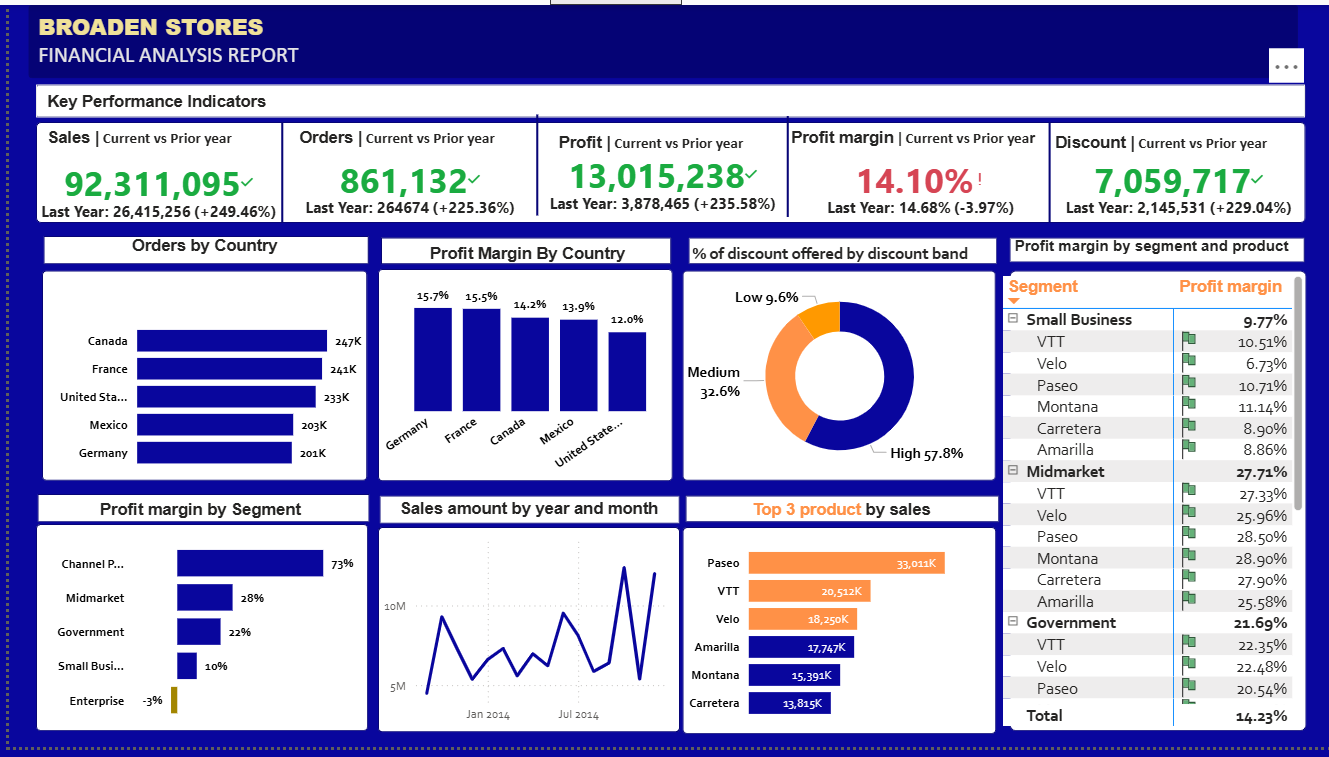

Layout of this report page (visuals, bound fields, positions):
{"tool":"powerbi","page":{"name":"Page 1","canvas":[1280,720],"ordinal":0},"visuals":[{"type":"shape","box":[971.5,257.5,288.2,446.9],"z":0},{"type":"shape","box":[19,0,1232,71],"z":1000},{"type":"shape","box":[26,77,1232,32],"z":2000},{"type":"shape","box":[26,113,1232,98],"z":3000},{"type":"shape","box":[32.4,257.5,315.7,204],"z":4000},{"type":"shape","box":[25.9,503.6,322.2,200.8],"z":5000},{"type":"shape","box":[654,258,304,204],"z":6000},{"type":"shape","box":[654.2,506.8,304.4,200.8],"z":7000},{"type":"shape","box":[357.8,506.8,293.1,199.2],"z":8000},{"type":"shape","box":[358,256,286,206],"z":9000},{"type":"shape","box":[655.8,476.1,304.4,25.9],"z":10000},{"type":"shape","box":[359.5,476.1,291.5,27.5],"z":11000},{"type":"shape","box":[659,225.1,299.6,25.9],"z":12000},{"type":"shape","box":[361.1,225.1,281.7,25.9],"z":13000},{"type":"shape","box":[27.5,474.4,322.2,27.5],"z":14000},{"type":"shape","box":[34,223.5,315.7,27.5],"z":15000},{"type":"shape","box":[971.5,225.1,286.6,24.3],"z":16000},{"type":"kpi","fields":{"Indicator":["Analysis.Sales Amount"],"TrendLine":["Date Table.Year"],"Goal":["Analysis.Sales Amount LY"]},"box":[20,146,250,72],"z":17000},{"type":"textbox","box":[24,0,404,72],"z":18000},{"type":"textbox","box":[32,78,226,36],"z":19000},{"type":"textbox","box":[32,114,226,32],"z":20000},{"type":"shape","box":[240,114,50,98],"z":21000},{"type":"kpi","fields":{"TrendLine":["Date Table.Year"],"Indicator":["Analysis.Orders"],"Goal":["Analysis.Orders LY"]},"box":[270,146,240,66],"z":22000},{"type":"kpi","fields":{"TrendLine":["Date Table.Year"],"Indicator":["Analysis.Profit"],"Goal":["Analysis.Profit LY"]},"box":[510,146,250,56],"z":23000},{"type":"kpi","fields":{"TrendLine":["Date Table.Year"],"Indicator":["Analysis.Profit margin"],"Goal":["Analysis.Profit margin LY"]},"box":[760,146,250,66],"z":24000},{"type":"kpi","fields":{"TrendLine":["Date Table.Year"],"Indicator":["Analysis.Discount offered"],"Goal":["Analysis.Discount offered LY"]},"box":[1010,146,250,66],"z":25000},{"type":"shape","box":[488,106,50,98],"z":26000},{"type":"shape","box":[730,108,50,98],"z":27000},{"type":"shape","box":[990,114,40,98],"z":28000},{"type":"textbox","box":[276,114,226,32],"z":29000},{"type":"textbox","box":[528,118,226,32],"z":30000},{"type":"textbox","box":[754,114,290,32],"z":31000},{"type":"textbox","box":[1010,118,240,32],"z":32000},{"type":"barChart","fields":{"Category":["Financials.Country"],"Y":["Analysis.Orders"]},"box":[32.4,291.5,315.7,170],"z":33000},{"type":"textbox","box":[32.4,218.6,315.7,32.4],"z":34000},{"type":"textbox","box":[362.7,225.1,281.7,30.8],"z":35000},{"type":"textbox","box":[657.4,225.1,302.8,32.4],"z":36000},{"type":"clusteredColumnChart","fields":{"Y":["Analysis.Profit margin"],"Category":["Financials.Country"]},"box":[357.8,255.8,285,205.6],"z":37000},{"type":"donutChart","fields":{"Category":["Financials.Discount Band"],"Y":["Analysis.Discount offered"]},"box":[654.2,257.5,304.4,204],"z":38000},{"type":"barChart","fields":{"Category":["Financials.Segment"],"Y":["Analysis.Profit margin"]},"box":[27.5,502,320.6,204],"z":39000},{"type":"textbox","box":[27.5,474.4,320.6,32.4],"z":40000},{"type":"textbox","box":[357.8,472.8,293.1,32.4],"z":41000},{"type":"textbox","box":[655.8,474.4,302.8,32.4],"z":42000},{"type":"lineChart","fields":{"Category":["Date Table.Date.Variation.Date Hierarchy.Year","Date Table.Date.Variation.Date Hierarchy.Month"],"Y":["Analysis.Sales Amount"]},"box":[357.8,506.8,293.1,197.5],"z":43000},{"type":"clusteredBarChart","fields":{"Category":["Financials.Product"],"Y":["Analysis.Sales Amount"]},"box":[654.2,506.8,304.4,197.5],"z":44000},{"type":"pivotTable","fields":{"Rows":["Financials.Segment","Financials.Product"],"Values":["Analysis.Profit margin"]},"box":[958.6,257.5,301.2,446.9],"z":45000},{"type":"textbox","box":[971.5,218.6,288.2,32.4],"z":45001}]}

Visuals, with their boxes in screenshot pixels (x1, y1, x2, y2), scaled from the page's 1280x720 canvas onto the 1329x757 screenshot:
shape: (left=1009, top=271, right=1308, bottom=741)
shape: (left=20, top=0, right=1299, bottom=75)
shape: (left=27, top=81, right=1306, bottom=115)
shape: (left=27, top=119, right=1306, bottom=222)
shape: (left=34, top=271, right=361, bottom=485)
shape: (left=27, top=529, right=361, bottom=741)
shape: (left=679, top=271, right=995, bottom=486)
shape: (left=679, top=533, right=995, bottom=744)
shape: (left=371, top=533, right=676, bottom=742)
shape: (left=372, top=269, right=669, bottom=486)
shape: (left=681, top=501, right=997, bottom=528)
shape: (left=373, top=501, right=676, bottom=529)
shape: (left=684, top=237, right=995, bottom=264)
shape: (left=375, top=237, right=667, bottom=264)
shape: (left=29, top=499, right=363, bottom=528)
shape: (left=35, top=235, right=363, bottom=264)
shape: (left=1009, top=237, right=1306, bottom=262)
kpi - Analysis.Sales Amount x Date Table.Year: (left=21, top=154, right=280, bottom=229)
textbox: (left=25, top=0, right=444, bottom=76)
textbox: (left=33, top=82, right=268, bottom=120)
textbox: (left=33, top=120, right=268, bottom=154)
shape: (left=249, top=120, right=301, bottom=223)
kpi - Date Table.Year x Analysis.Orders: (left=280, top=154, right=530, bottom=223)
kpi - Date Table.Year x Analysis.Profit: (left=530, top=154, right=789, bottom=212)
kpi - Date Table.Year x Analysis.Profit margin: (left=789, top=154, right=1049, bottom=223)
kpi - Date Table.Year x Analysis.Discount offered: (left=1049, top=154, right=1308, bottom=223)
shape: (left=507, top=111, right=559, bottom=214)
shape: (left=758, top=114, right=810, bottom=217)
shape: (left=1028, top=120, right=1069, bottom=223)
textbox: (left=287, top=120, right=521, bottom=154)
textbox: (left=548, top=124, right=783, bottom=158)
textbox: (left=783, top=120, right=1084, bottom=154)
textbox: (left=1049, top=124, right=1298, bottom=158)
barChart - Financials.Country x Analysis.Orders: (left=34, top=306, right=361, bottom=485)
textbox: (left=34, top=230, right=361, bottom=264)
textbox: (left=377, top=237, right=669, bottom=269)
textbox: (left=683, top=237, right=997, bottom=271)
clusteredColumnChart - Analysis.Profit margin x Financials.Country: (left=371, top=269, right=667, bottom=485)
donutChart - Financials.Discount Band x Analysis.Discount offered: (left=679, top=271, right=995, bottom=485)
barChart - Financials.Segment x Analysis.Profit margin: (left=29, top=528, right=361, bottom=742)
textbox: (left=29, top=499, right=361, bottom=533)
textbox: (left=371, top=497, right=676, bottom=531)
textbox: (left=681, top=499, right=995, bottom=533)
lineChart - Date Table.Date.Variation.Date Hierarchy.Year x Date Table.Date.Variation.Date Hierarchy.Month: (left=371, top=533, right=676, bottom=740)
clusteredBarChart - Financials.Product x Analysis.Sales Amount: (left=679, top=533, right=995, bottom=740)
pivotTable - Financials.Segment x Financials.Product: (left=995, top=271, right=1308, bottom=741)
textbox: (left=1009, top=230, right=1308, bottom=264)
